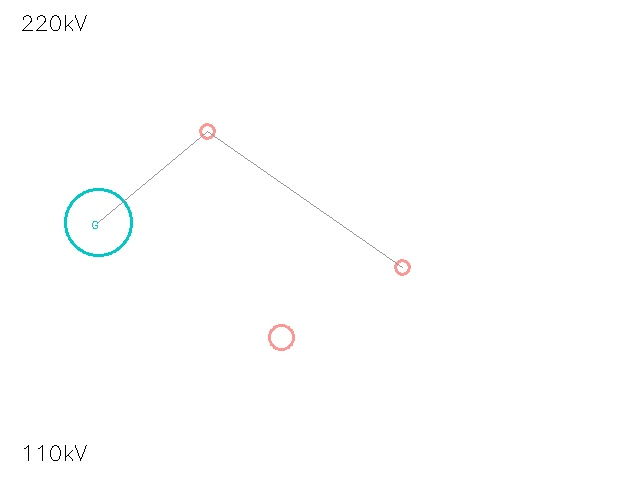disconnect_switch: (257, 313, 305, 361)
fuse: (192, 116, 222, 146), (387, 252, 417, 282)
generator: (65, 189, 131, 255)
